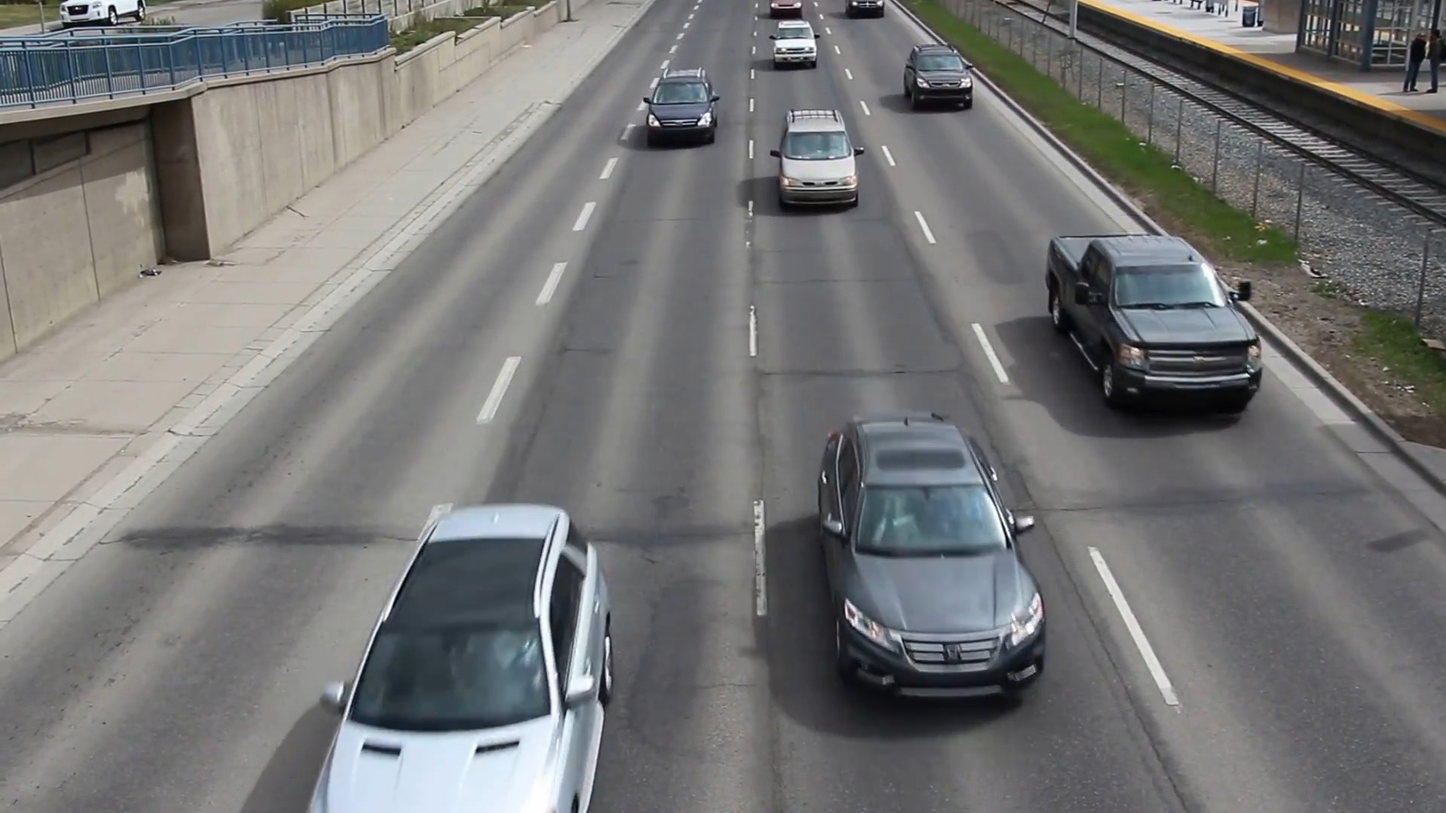car: (810, 407, 1052, 720), (1036, 224, 1275, 411), (770, 110, 862, 209), (644, 64, 716, 149), (900, 47, 972, 112)
